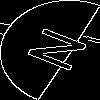N: (25, 25, 100, 79)
